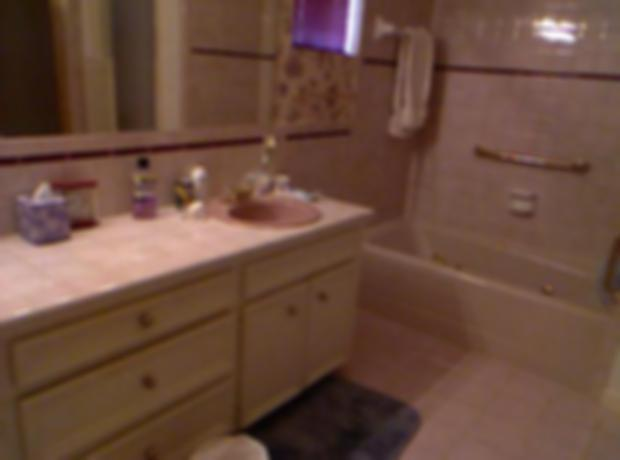Lavamanos: (197, 174, 327, 240)
